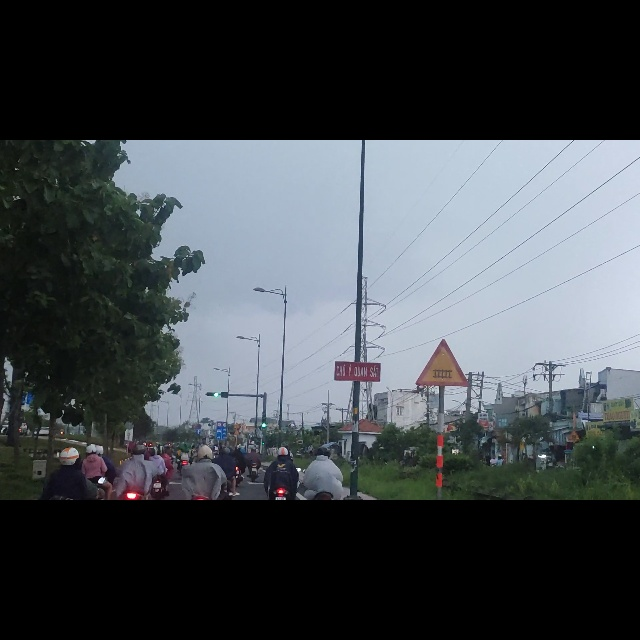bien_cam: (415, 353, 470, 439), (196, 514, 202, 523)
